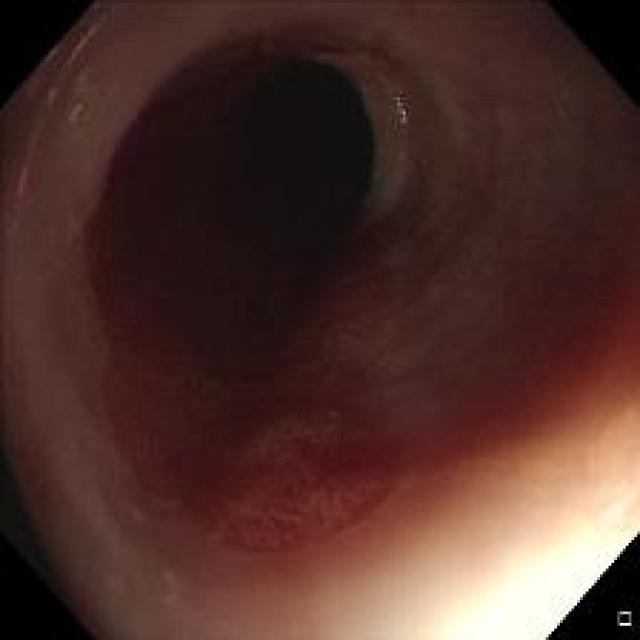color misalignment: (24, 24, 90, 194), (394, 92, 412, 131), (15, 162, 28, 201)
contrast: (108, 38, 450, 434)
saturation: (440, 531, 615, 628)
